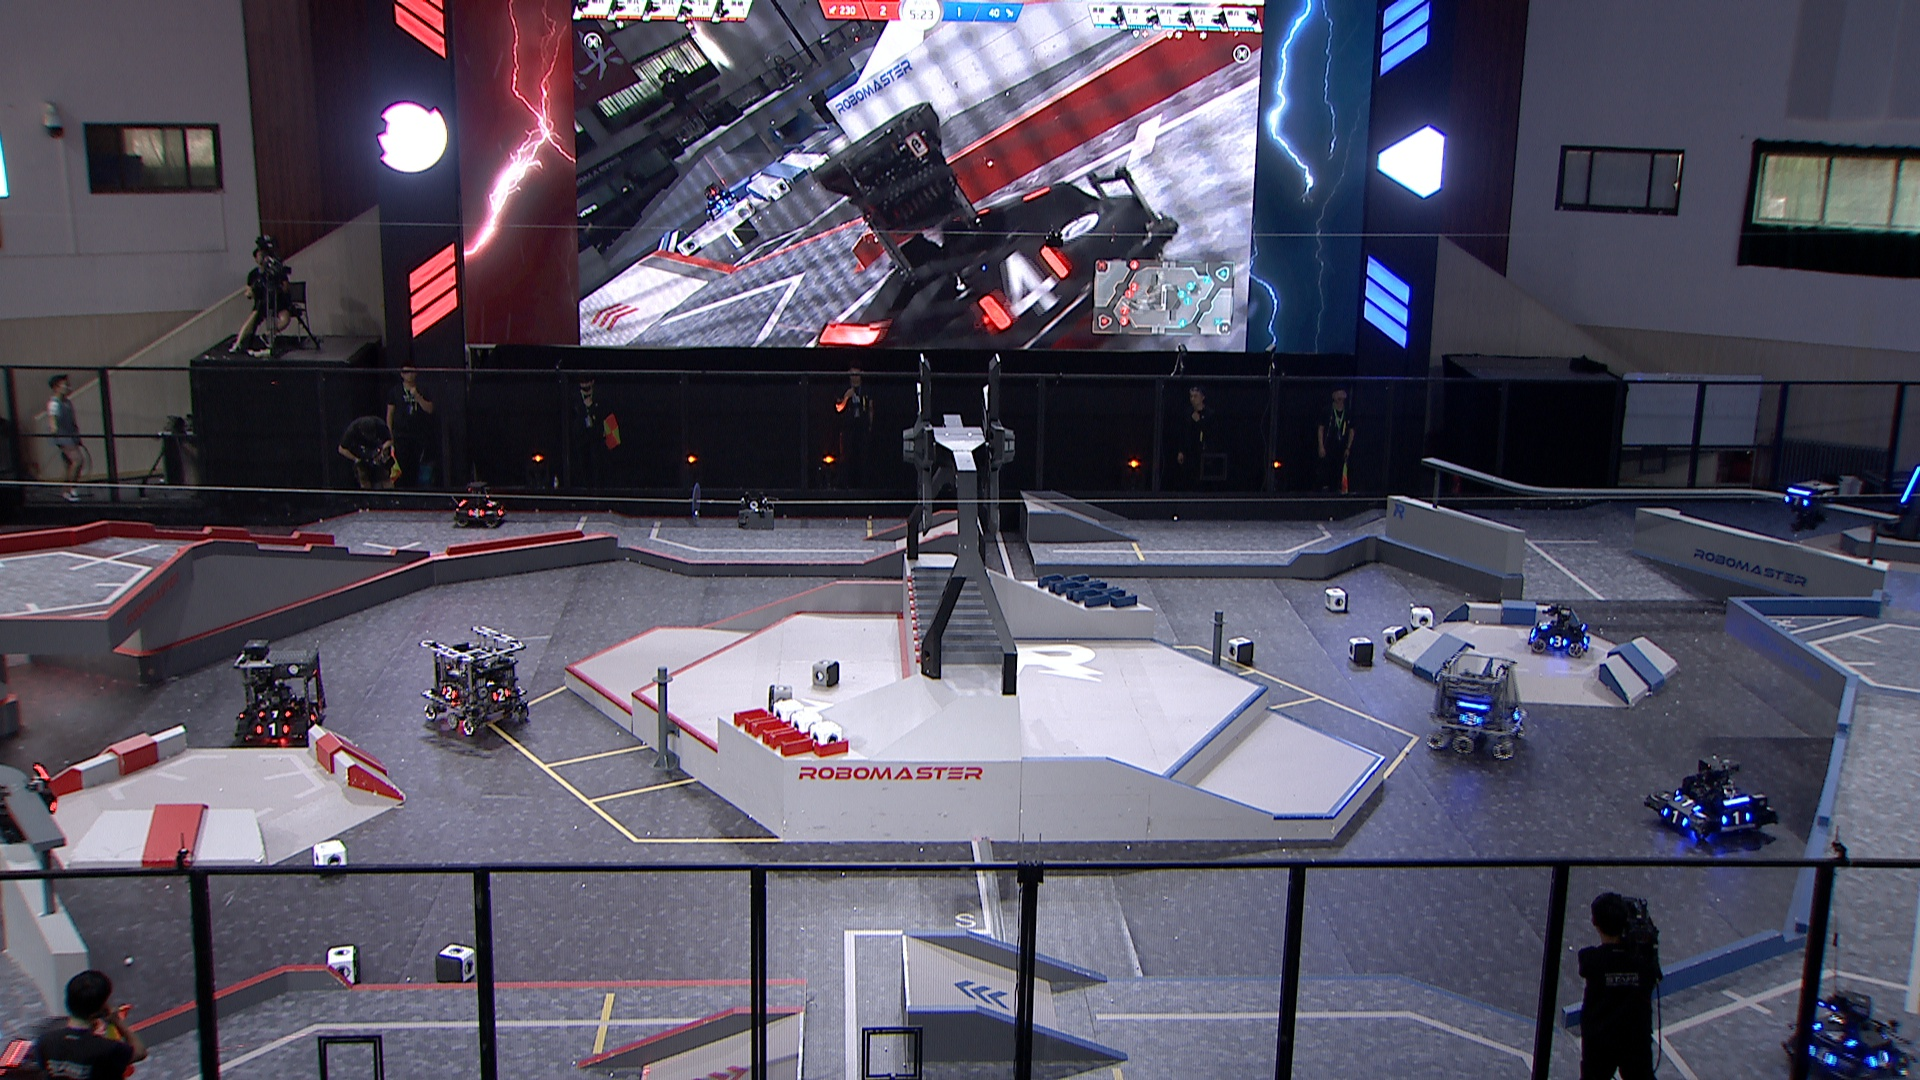armor: (1812, 1021, 1855, 1050), (1899, 465, 1920, 505), (1662, 806, 1691, 829), (1807, 1043, 1837, 1065), (1721, 808, 1753, 828), (256, 723, 291, 740), (1869, 1050, 1894, 1071), (1673, 796, 1702, 814), (1783, 493, 1812, 509), (257, 709, 291, 723), (1461, 711, 1484, 728), (491, 688, 510, 703), (1548, 636, 1571, 647), (442, 684, 458, 700), (465, 508, 487, 520), (309, 707, 323, 723), (1539, 618, 1552, 633), (485, 498, 498, 508)
base: (1876, 462, 1920, 547)
car: (419, 622, 531, 738), (1779, 986, 1917, 1080), (1647, 760, 1782, 844), (1425, 651, 1528, 760), (233, 638, 328, 744), (1527, 607, 1593, 659), (448, 480, 508, 527)
ignore: (818, 98, 1182, 353), (707, 185, 742, 219)
watcher: (1782, 477, 1840, 535)
